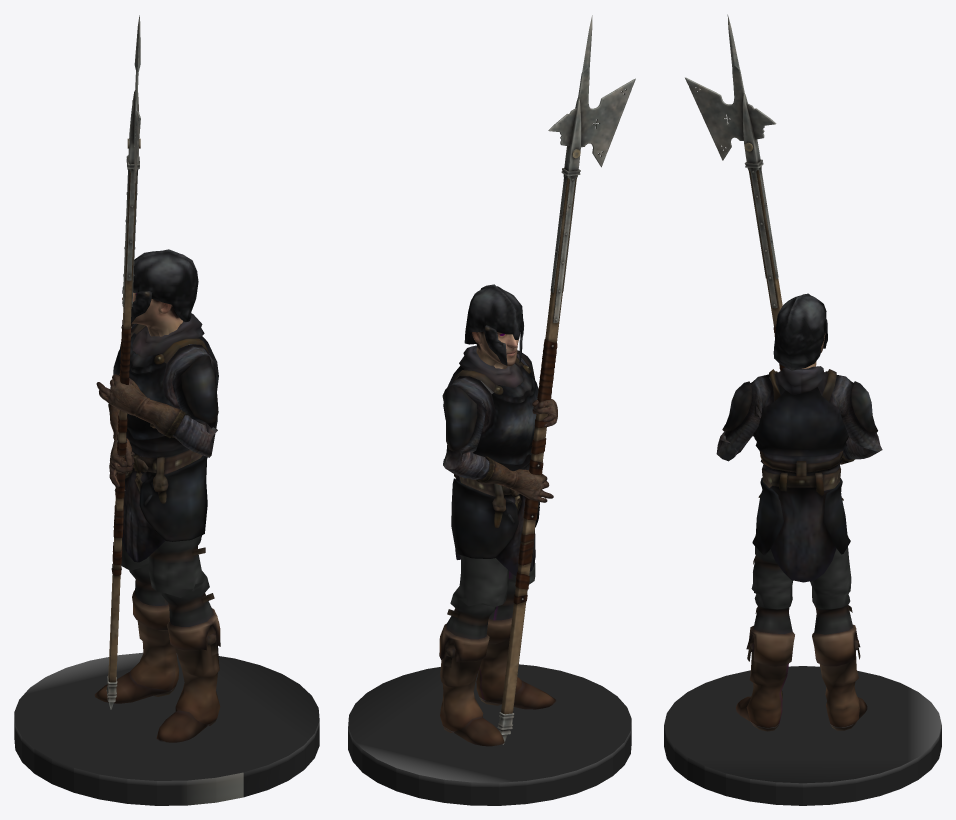
The picture shows the model from 3 angles, left to right: view 1: azimuth 30°, elevation 25°; view 2: azimuth 150°, elevation 25°; view 3: azimuth 270°, elevation 25°; orthographic projection. The views are drawn at different scales.
Visible parts, largest first — view 1: Halberd.smd; view 2: Halberd.smd; view 3: Halberd.smd.
Part boxes in pixels (bbox=[...]): Halberd.smd: bbox=[14, 15, 319, 805]; Halberd.smd: bbox=[348, 15, 635, 805]; Halberd.smd: bbox=[664, 14, 941, 805].
Size of the model in its own units: 1 by 2.79 by 1.
Materials: 1 (1 with a texture image).
